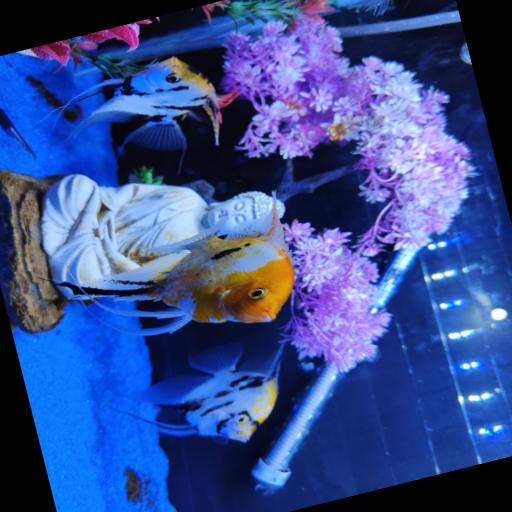Fish: (56, 203, 293, 334), (68, 56, 236, 150), (126, 342, 282, 442), (360, 0, 387, 13)
